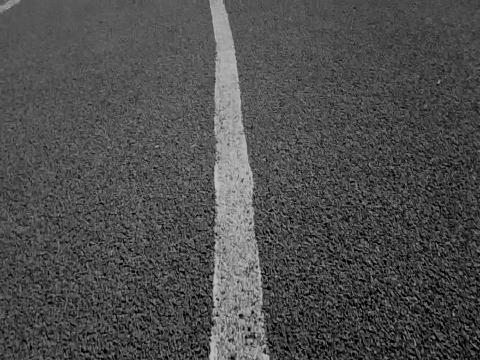Lines: (208, 0, 270, 360)
